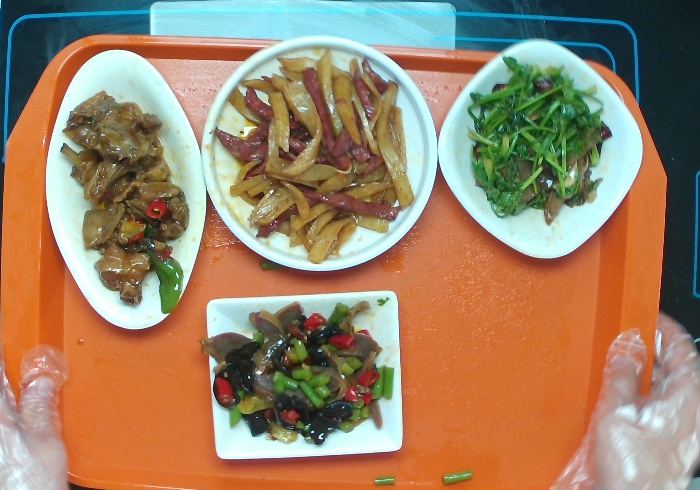HZYJPL-Si_Fang_Die: (202, 287, 405, 462)
HZYJPL-Si_Fang_Yuan_Die: (434, 35, 645, 262)
HZYJPL-Xiao_Yu_Die: (41, 47, 208, 334)
HZYJPL-Xiao_Yuan_Die: (198, 31, 440, 274)
